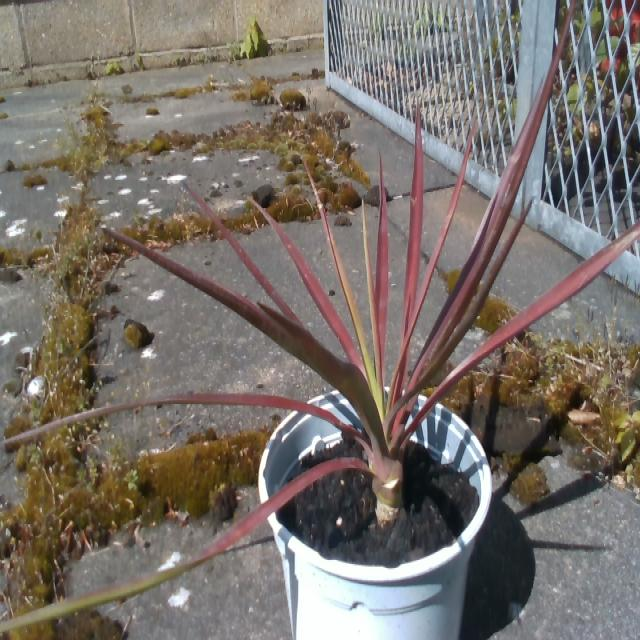Yucca-aloifolia: (0, 459, 367, 629), (396, 223, 639, 441), (420, 57, 556, 364), (104, 228, 336, 387), (258, 303, 387, 453), (6, 393, 354, 443), (259, 205, 363, 369), (312, 181, 381, 413), (186, 184, 299, 323), (436, 204, 530, 363), (401, 141, 470, 355), (403, 108, 422, 340), (363, 207, 379, 389), (376, 159, 388, 367), (397, 351, 407, 381)
